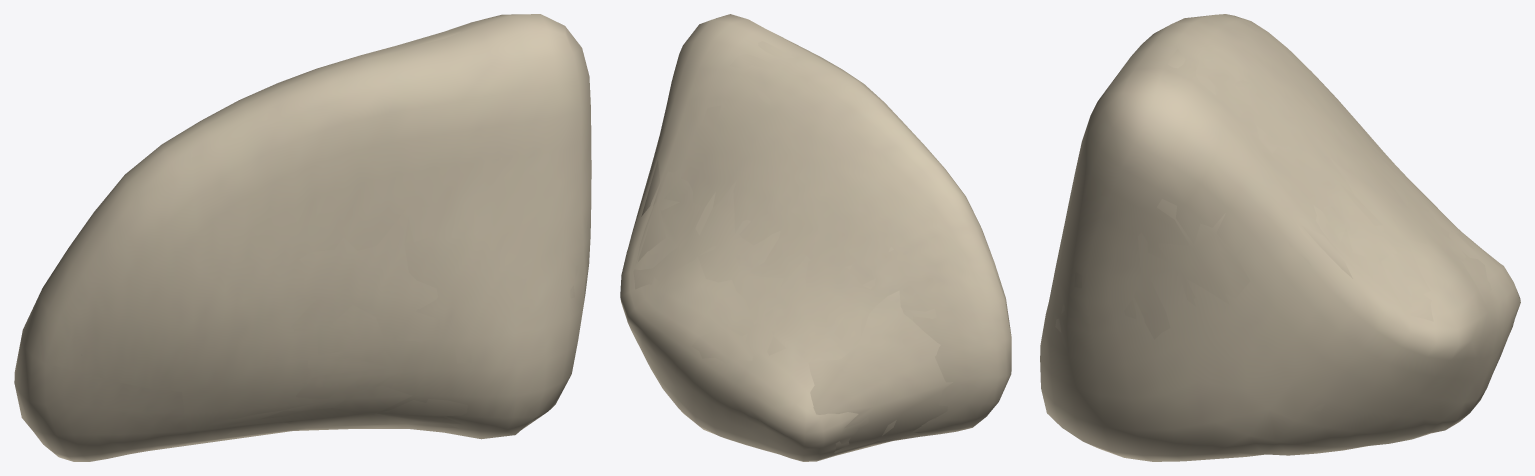
The model's file is L carpale primum.fbx.
3 views of the same model, side by side, from view 1: azimuth 30°, elevation 25°; view 2: azimuth 150°, elevation 25°; view 3: azimuth 270°, elevation 25° (orthographic). The views are drawn at different scales.
Parts seen in each view (by area): view 1: L carpale primum high, L carpale primum, L carpale primum low; view 2: L carpale primum high, L carpale primum low, L carpale primum; view 3: L carpale primum high, L carpale primum, L carpale primum low.
Boxes of the visible parts, x1,y1,x2,y2 form: L carpale primum high: [14, 14, 591, 461]; L carpale primum: [81, 33, 587, 434]; L carpale primum low: [152, 31, 578, 450]; L carpale primum high: [620, 14, 1011, 461]; L carpale primum low: [637, 41, 952, 452]; L carpale primum: [633, 54, 936, 454]; L carpale primum high: [1040, 14, 1520, 461]; L carpale primum: [1074, 56, 1491, 455]; L carpale primum low: [1055, 49, 1451, 454].
Size of the model in its own units: 1.74 by 1.36 by 1.47.
Materials: 1 (1 with a texture image).
